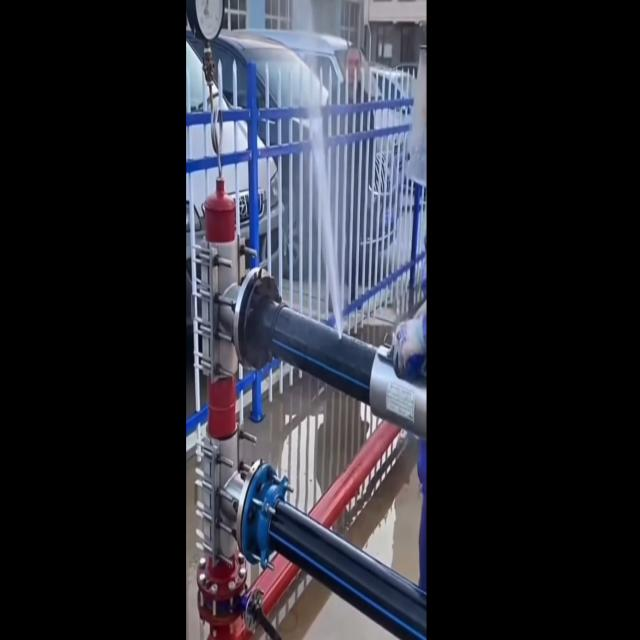leak: (310, 107, 342, 338)
